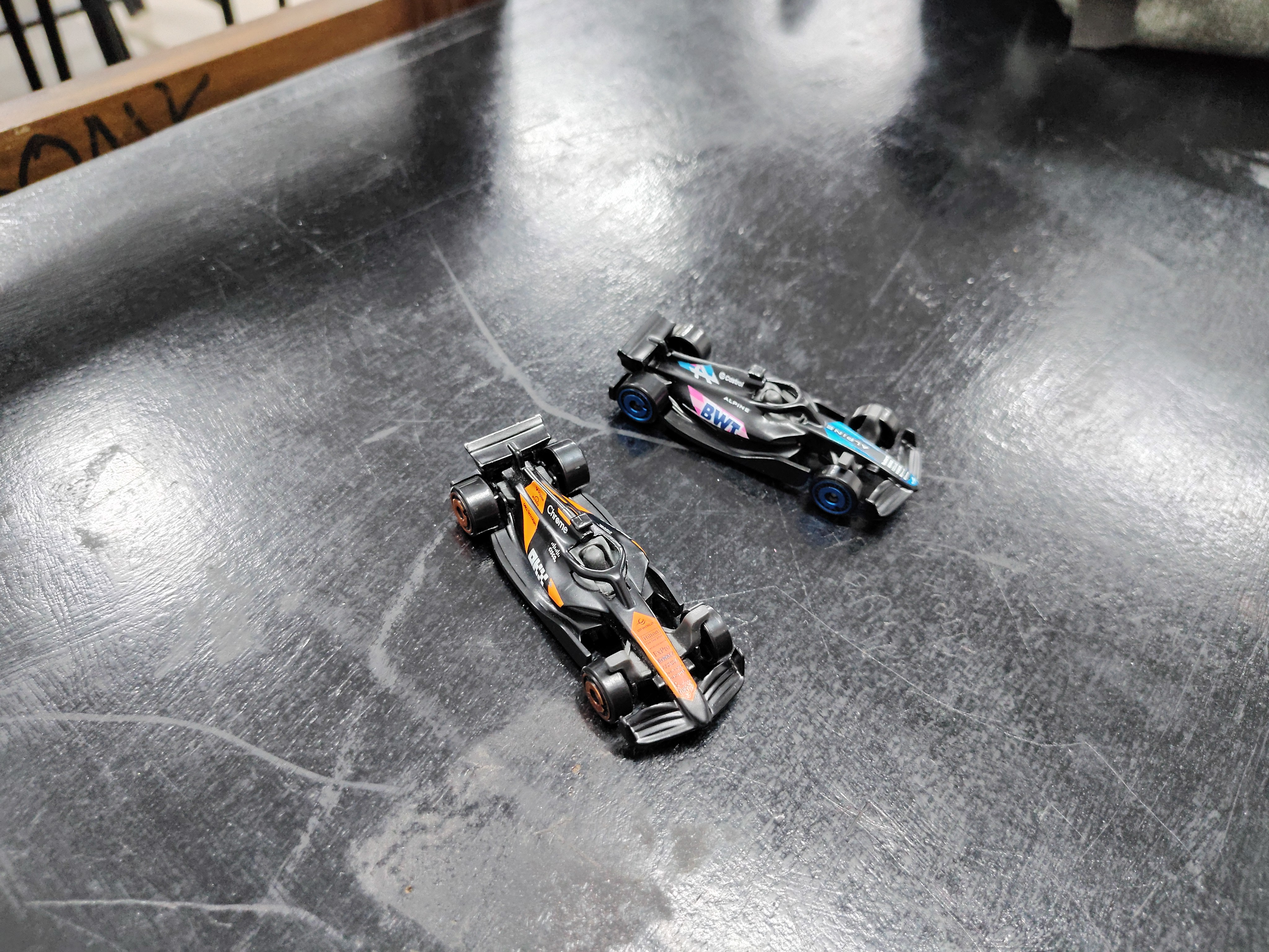Alpine A524: (562, 251, 965, 553)
McLaren MCL40: (393, 403, 778, 744)
